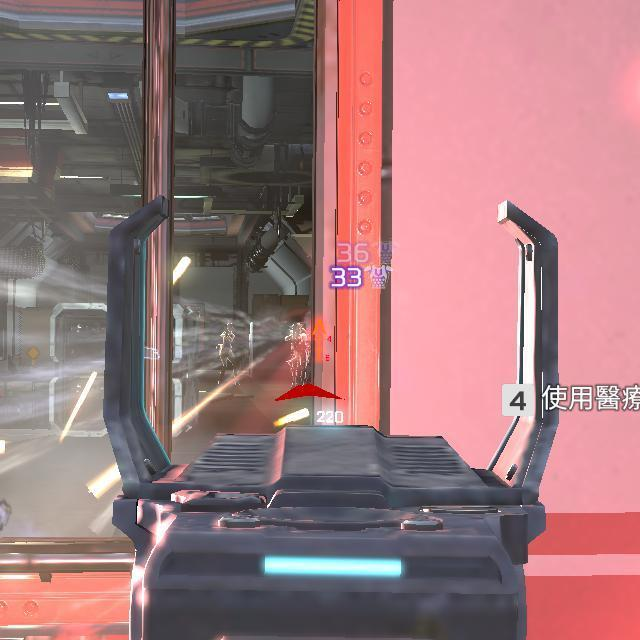avatar: (214, 319, 244, 389), (283, 317, 311, 387)
